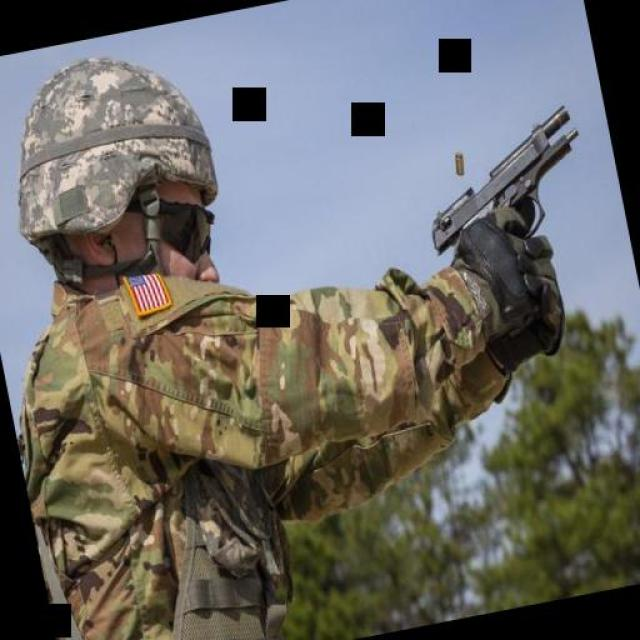gun: (408, 94, 602, 282)
